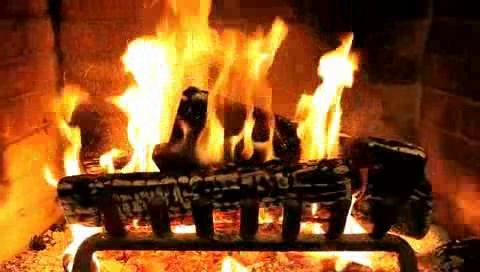fire: (114, 2, 351, 170)
